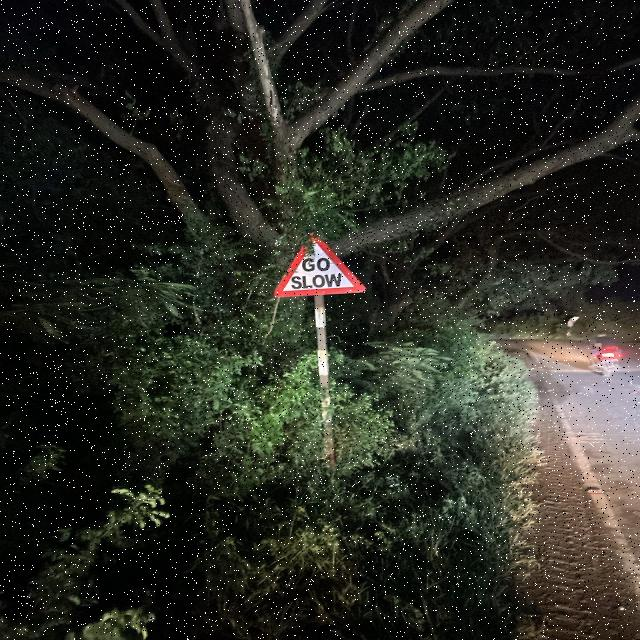go_slow: (279, 228, 371, 296)
